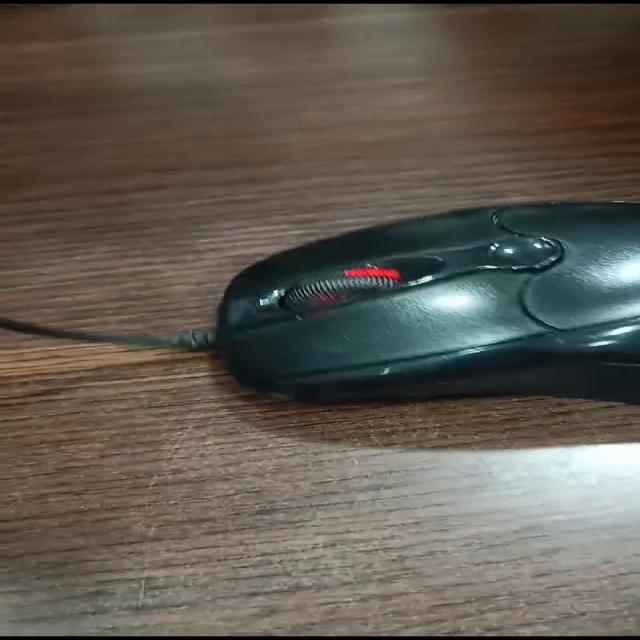Mouse: (48, 172, 640, 445)
